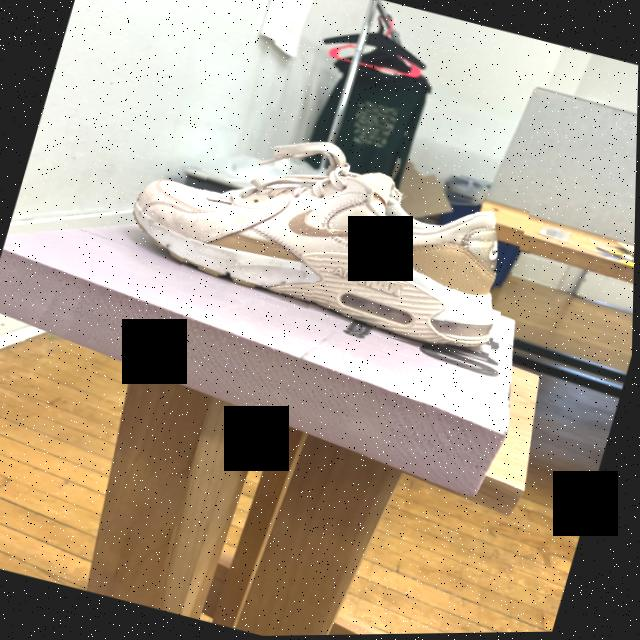shoe: (110, 94, 537, 370)
